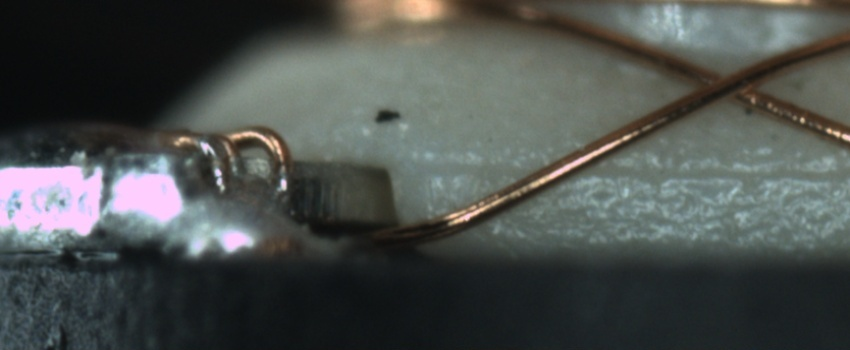CL: (677, 54, 776, 111)
DL: (430, 140, 850, 194)
TE: (160, 113, 310, 211)
